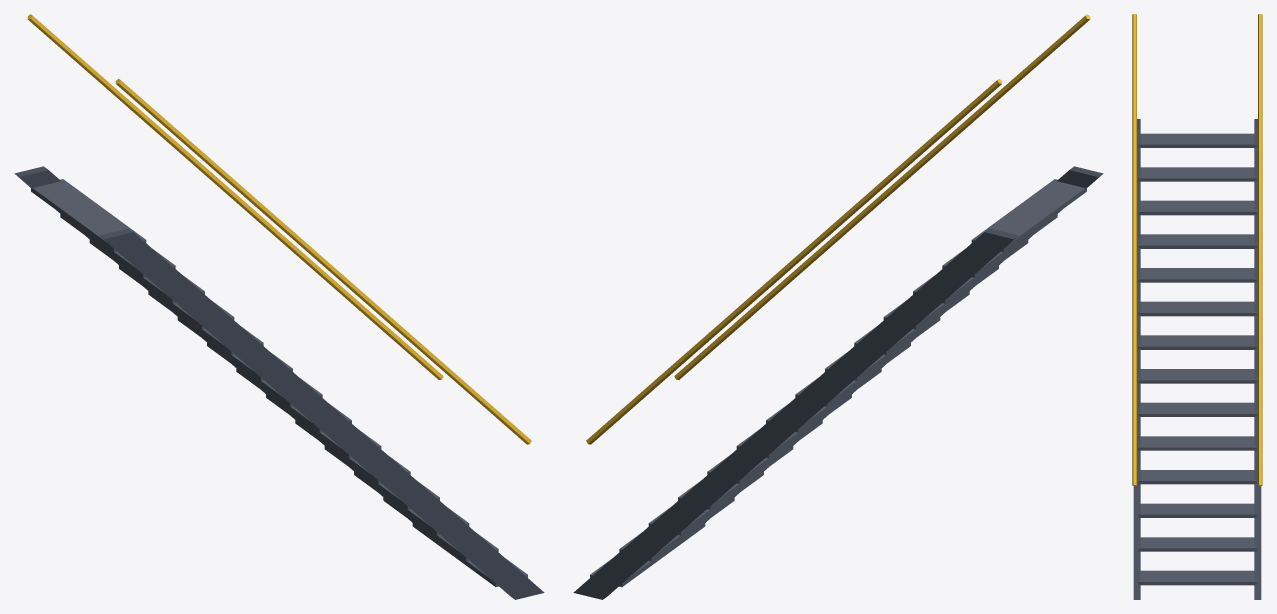
File: metal_stairs.glb
3 views of the same model, side by side, from view 1: azimuth 30°, elevation 25°; view 2: azimuth 150°, elevation 25°; view 3: azimuth 270°, elevation 25° (orthographic). The views are drawn at different scales.
Parts seen in each view (by area): view 1: metal_stairs; view 2: metal_stairs; view 3: metal_stairs.
Part boxes in pixels (x1,y1,x2,y2): metal_stairs: (14,14,544,599); metal_stairs: (573,14,1103,599); metal_stairs: (1132,14,1262,599).
Bounding box in the file's own units: 3 × 4.01 × 1.08.
